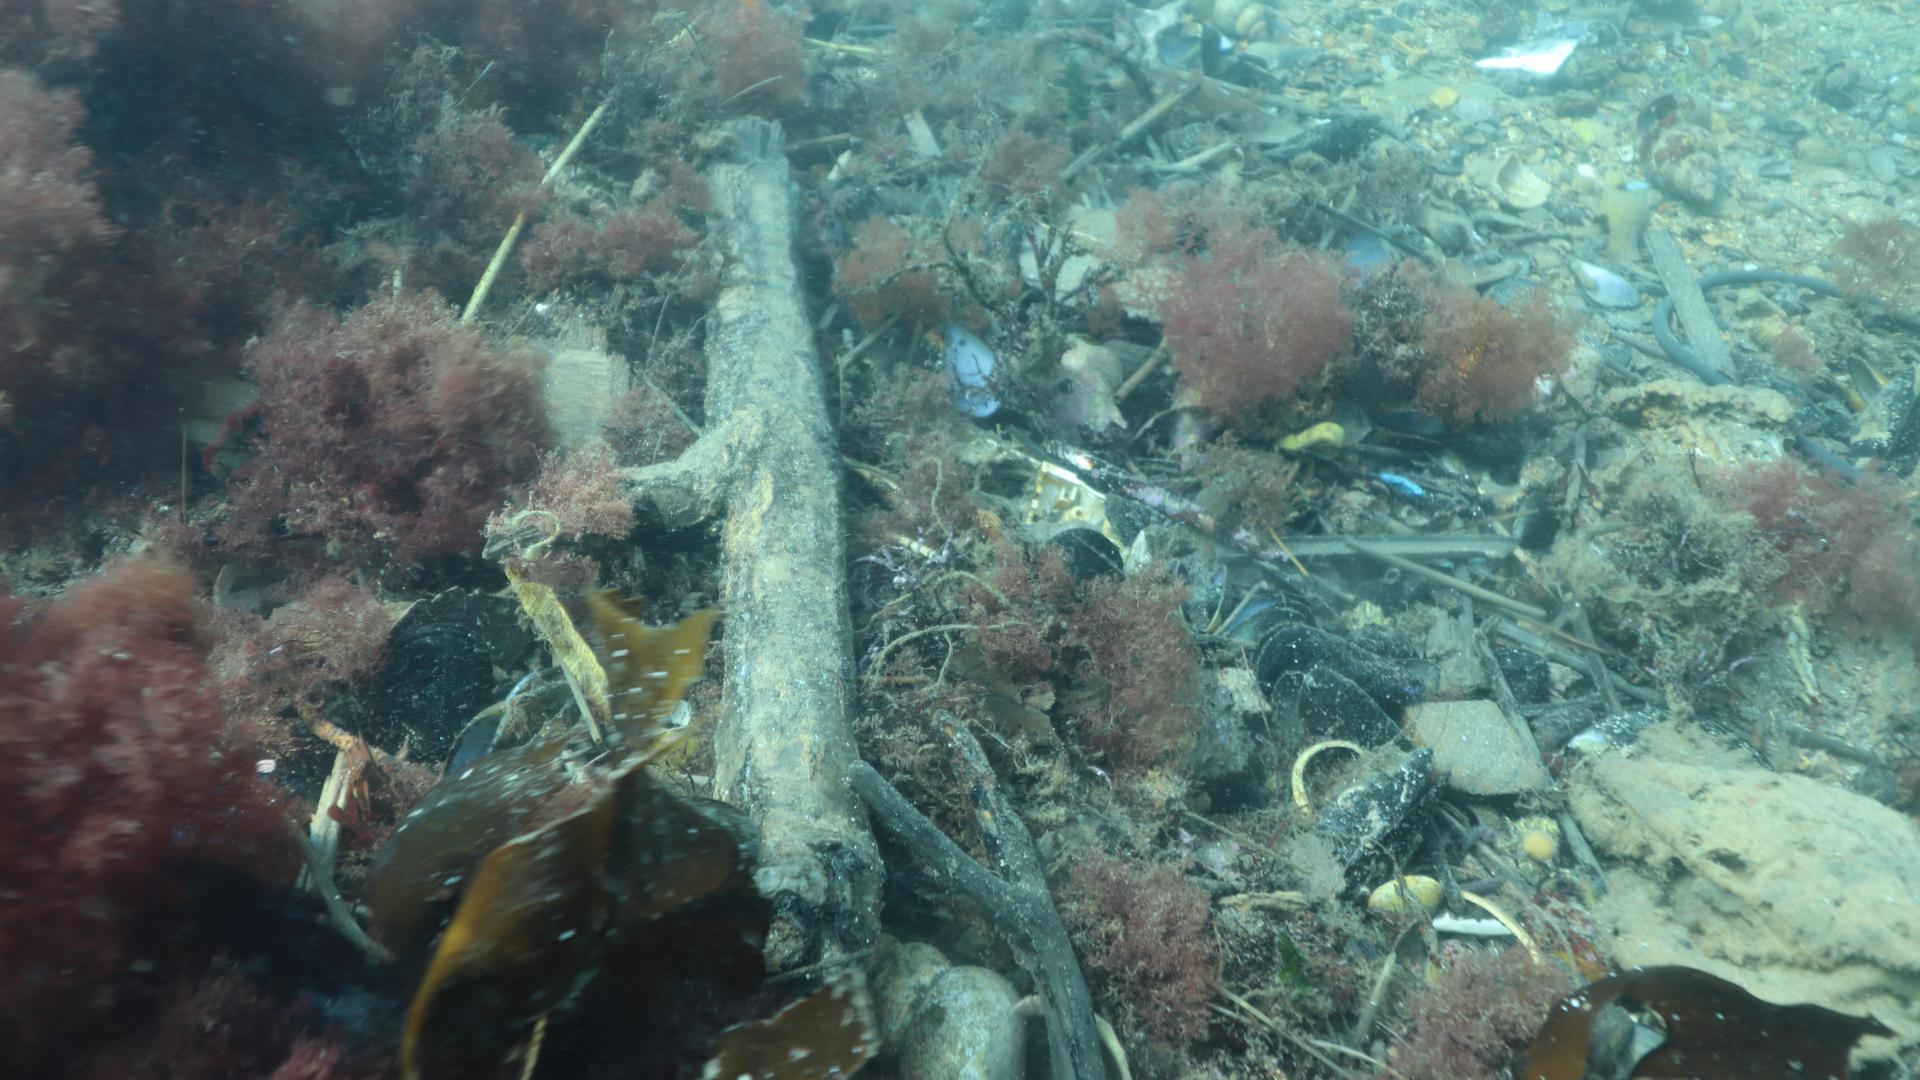wood: (477, 111, 886, 982)
